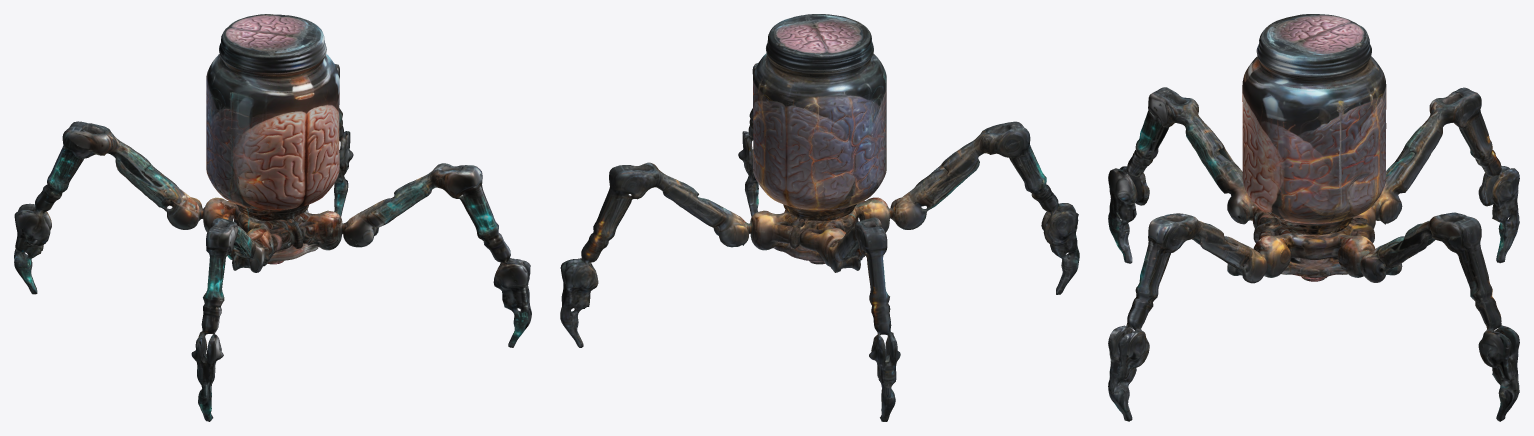
File: A_3D_model_of_a_brain_1116202001_refine.glb
The picture shows the model from 3 angles, left to right: view 1: azimuth 30°, elevation 25°; view 2: azimuth 150°, elevation 25°; view 3: azimuth 270°, elevation 25°; orthographic projection. The views are drawn at different scales.
Size of the model in its own units: 1.99 by 1.63 by 1.98.
Materials: 1 (1 with a texture image).
